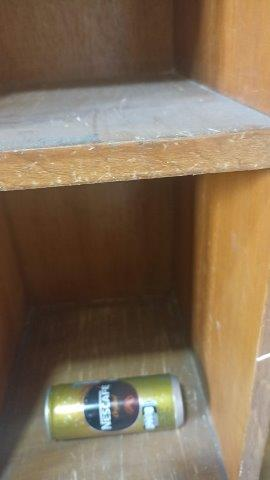kaleng: (43, 373, 187, 435)
